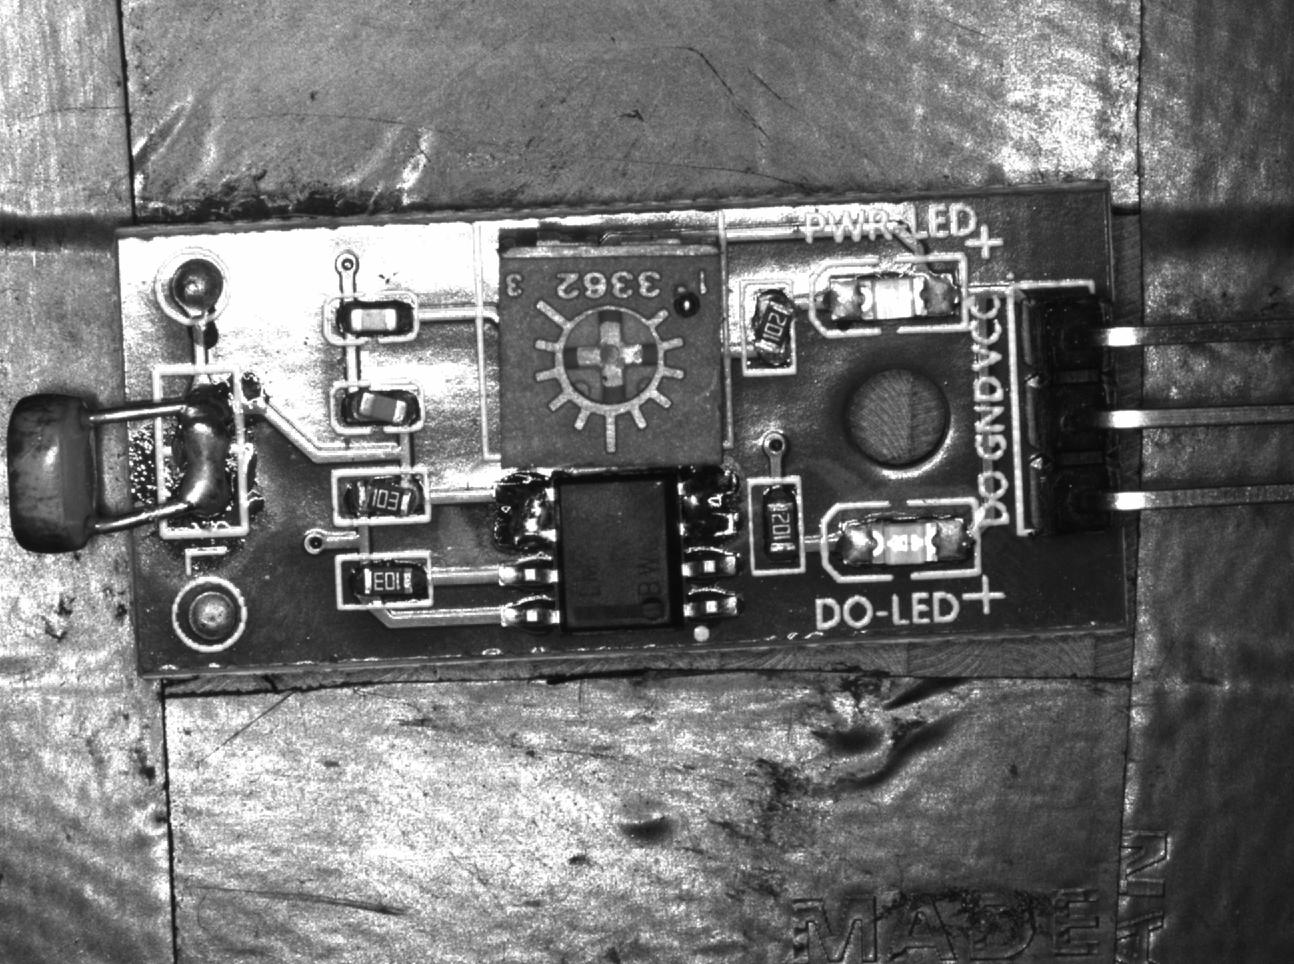bridge: (151, 365, 245, 530), (494, 473, 554, 560), (674, 469, 734, 553)
lifted: (738, 278, 799, 377), (331, 472, 433, 523), (330, 386, 426, 431)
ok: (751, 476, 802, 573), (323, 296, 421, 342), (338, 558, 430, 606)
